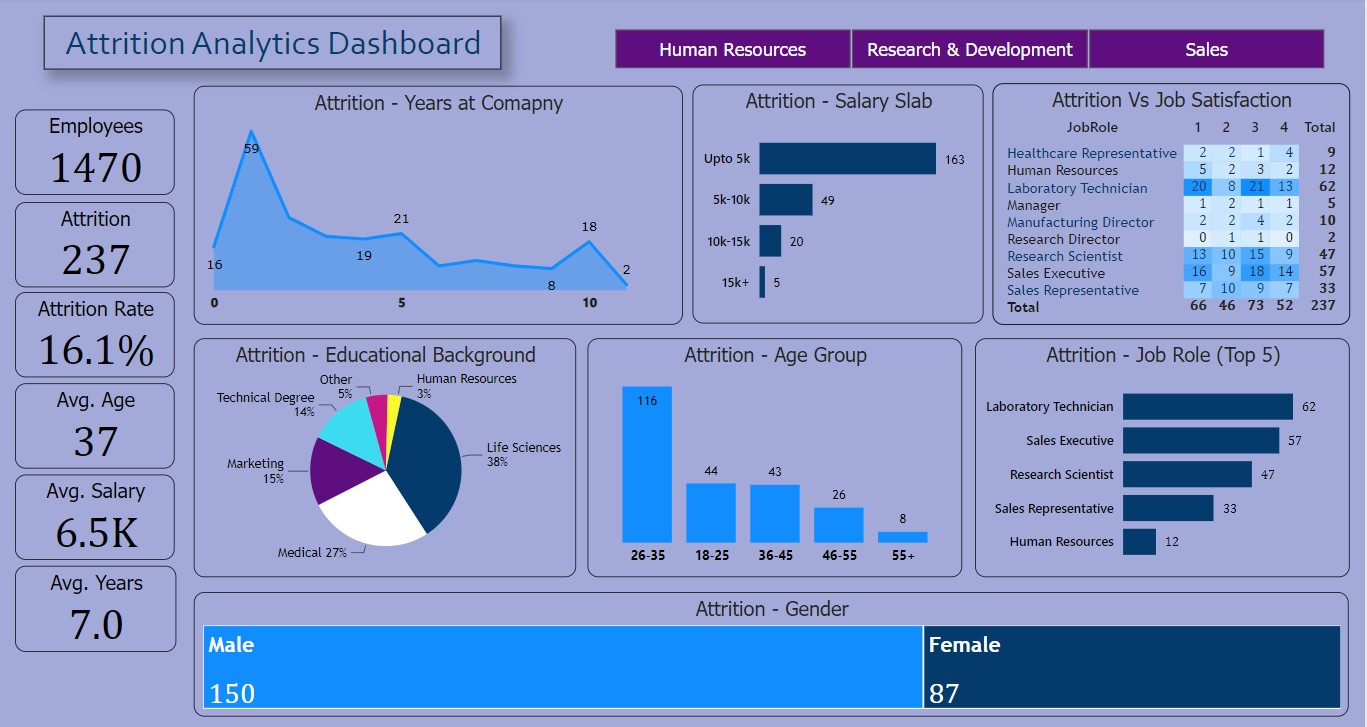

This screenshot's page, from the dashboard's own definition file:
{"tool":"powerbi","page":{"name":"Dashboard","canvas":[1280,720],"ordinal":0},"visuals":[{"type":"card","title":"Employees","fields":{"Values":["CountNonNull(HR_Analytics (source).EmpID)"]},"box":[14.1,105.8,150,79.7],"z":0,"group":"g1"},{"type":"pieChart","title":"Attrition - Educational Background","fields":{"Category":["HR_Analytics (source).EducationField"],"Y":["Sum(HR_Analytics (source).AttritionCount)"]},"box":[181.6,319.8,358.5,223.8],"z":0},{"type":"card","title":"Attrition","fields":{"Values":["Sum(HR_Analytics (source).AttritionCount)"]},"box":[14.4,191.9,150,79.7],"z":1000,"group":"g1"},{"type":"columnChart","title":"Attrition - Age Group","fields":{"Category":["HR_Analytics (source).AgeGroup"],"Y":["Sum(HR_Analytics (source).AttritionCount)"]},"box":[550.6,319.8,351.5,223.8],"z":1000},{"type":"pivotTable","title":"Attrition Vs Job Satisfaction","fields":{"Rows":["HR_Analytics (source).JobRole"],"Columns":["HR_Analytics (source).JobSatisfaction"],"Values":["Sum(HR_Analytics (source).AttritionCount)"]},"box":[930.2,80.8,335.1,226.1],"z":2000},{"type":"card","title":"Attrition Rate","fields":{"Values":["HR_Analytics (source).AttritionRate"]},"box":[14.4,277.2,150,79.7],"z":2000,"group":"g1"},{"type":"barChart","title":"Attrition - Salary Slab","fields":{"Y":["Sum(HR_Analytics (source).AttritionCount)"],"Category":["HR_Analytics (source).SalarySlab"]},"box":[649,82,273,223.8],"z":3000},{"type":"card","title":"Avg. Age","fields":{"Values":["Avg(HR_Analytics (source).Age)"]},"box":[14.4,362.8,150,79.7],"z":3000,"group":"g1"},{"type":"barChart","title":"Attrition - Job Role (Top 5)","fields":{"Y":["Sum(HR_Analytics (source).AttritionCount)"],"Category":["HR_Analytics (source).JobRole"]},"box":[913.8,319.8,351.5,223.8],"z":4000},{"type":"card","title":"Avg. Salary","fields":{"Values":["Avg(HR_Analytics (source).MonthlyIncome)"]},"box":[14.4,448.5,150,79.7],"z":4000,"group":"g1"},{"type":"areaChart","title":"Attrition - Years at Comapny","fields":{"Category":["HR_Analytics (source).YearsAtCompany"],"Y":["Sum(HR_Analytics (source).AttritionCount)"]},"box":[181.6,83.2,458.1,223.8],"z":5000},{"type":"card","title":"Avg. Years","fields":{"Values":["Avg(HR_Analytics (source).YearsAtCompany)"]},"box":[14.4,534,151.1,80.8],"z":5000,"group":"g1"},{"type":"treemap","title":"Attrition - Gender","fields":{"Group":["HR_Analytics (source).Gender"],"Values":["Sum(HR_Analytics (source).AttritionCount)"]},"box":[182.1,557.1,1082.7,116.5],"z":6000},{"type":"group","id":"g1","title":"Group 1","box":[14.1,105.8,151.1,508.4],"z":7000},{"type":"textbox","box":[41,17.6,428.8,50.4],"z":8000},{"type":"slicer","fields":{"Values":["HR_Analytics (source).Department"]},"box":[550.6,23.4,714.6,50.4],"z":9000}]}

Visuals, with their boxes on the page's 1280x720 design canvas (x1, y1, x2, y2). These are canvas units, not pixel positions in the 1367x727 screenshot, which may show the page scaled, cropped or inside an application window:
"Employees" card: l=14, t=106, r=164, b=186
"Attrition - Educational Background" pieChart: l=182, t=320, r=540, b=544
"Attrition" card: l=14, t=192, r=164, b=272
"Attrition - Age Group" columnChart: l=551, t=320, r=902, b=544
"Attrition Vs Job Satisfaction" pivotTable: l=930, t=81, r=1265, b=307
"Attrition Rate" card: l=14, t=277, r=164, b=357
"Attrition - Salary Slab" barChart: l=649, t=82, r=922, b=306
"Avg. Age" card: l=14, t=363, r=164, b=442
"Attrition - Job Role (Top 5)" barChart: l=914, t=320, r=1265, b=544
"Avg. Salary" card: l=14, t=448, r=164, b=528
"Attrition - Years at Comapny" areaChart: l=182, t=83, r=640, b=307
"Avg. Years" card: l=14, t=534, r=166, b=615
"Attrition - Gender" treemap: l=182, t=557, r=1265, b=674
"Group 1" group: l=14, t=106, r=165, b=614
textbox: l=41, t=18, r=470, b=68
slicer - HR_Analytics (source).Department: l=551, t=23, r=1265, b=74
